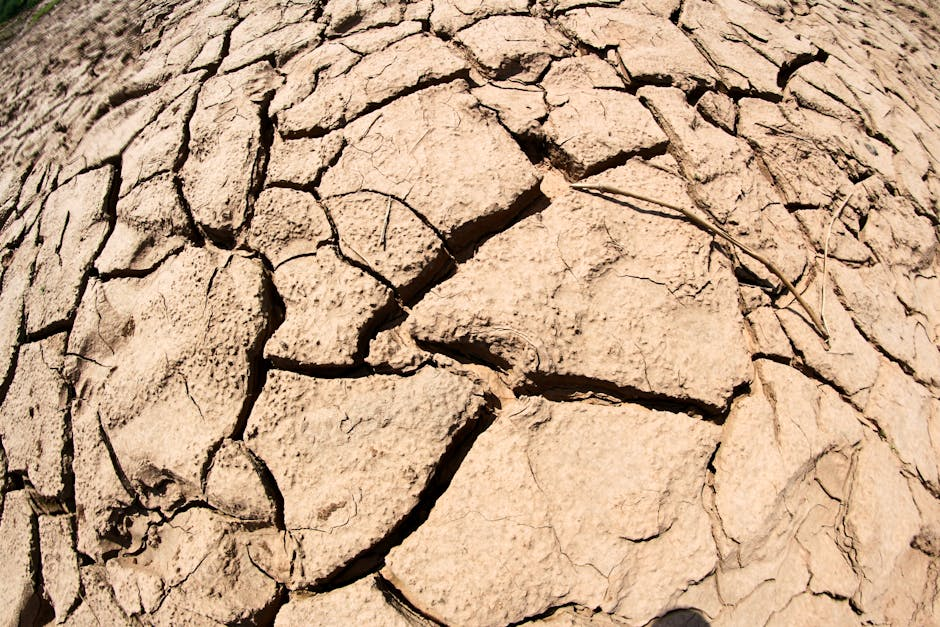深大裂缝: (276, 320, 716, 436), (376, 191, 565, 292)
网状裂隙: (464, 14, 826, 171), (23, 54, 186, 348)
